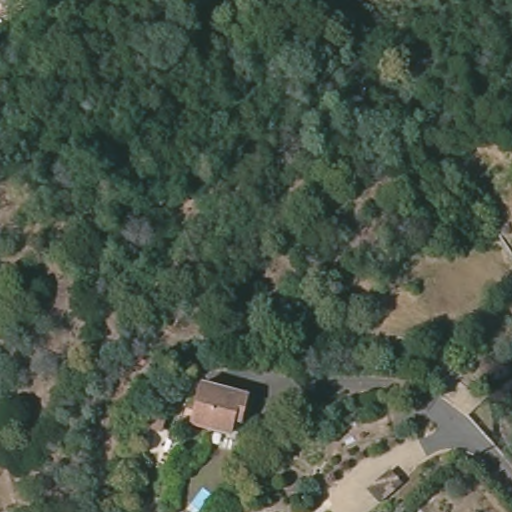pool: (186, 486, 215, 512)
